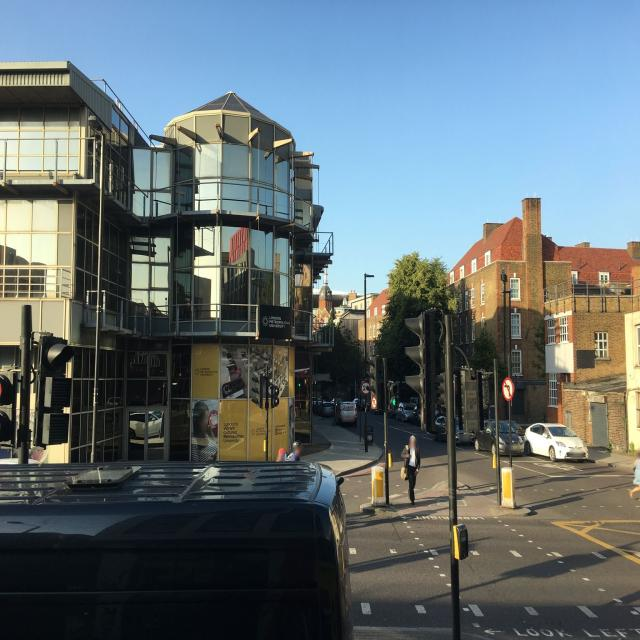car: (524, 422, 588, 462), (474, 420, 524, 456), (335, 401, 357, 426), (397, 402, 416, 423), (321, 400, 335, 418)
